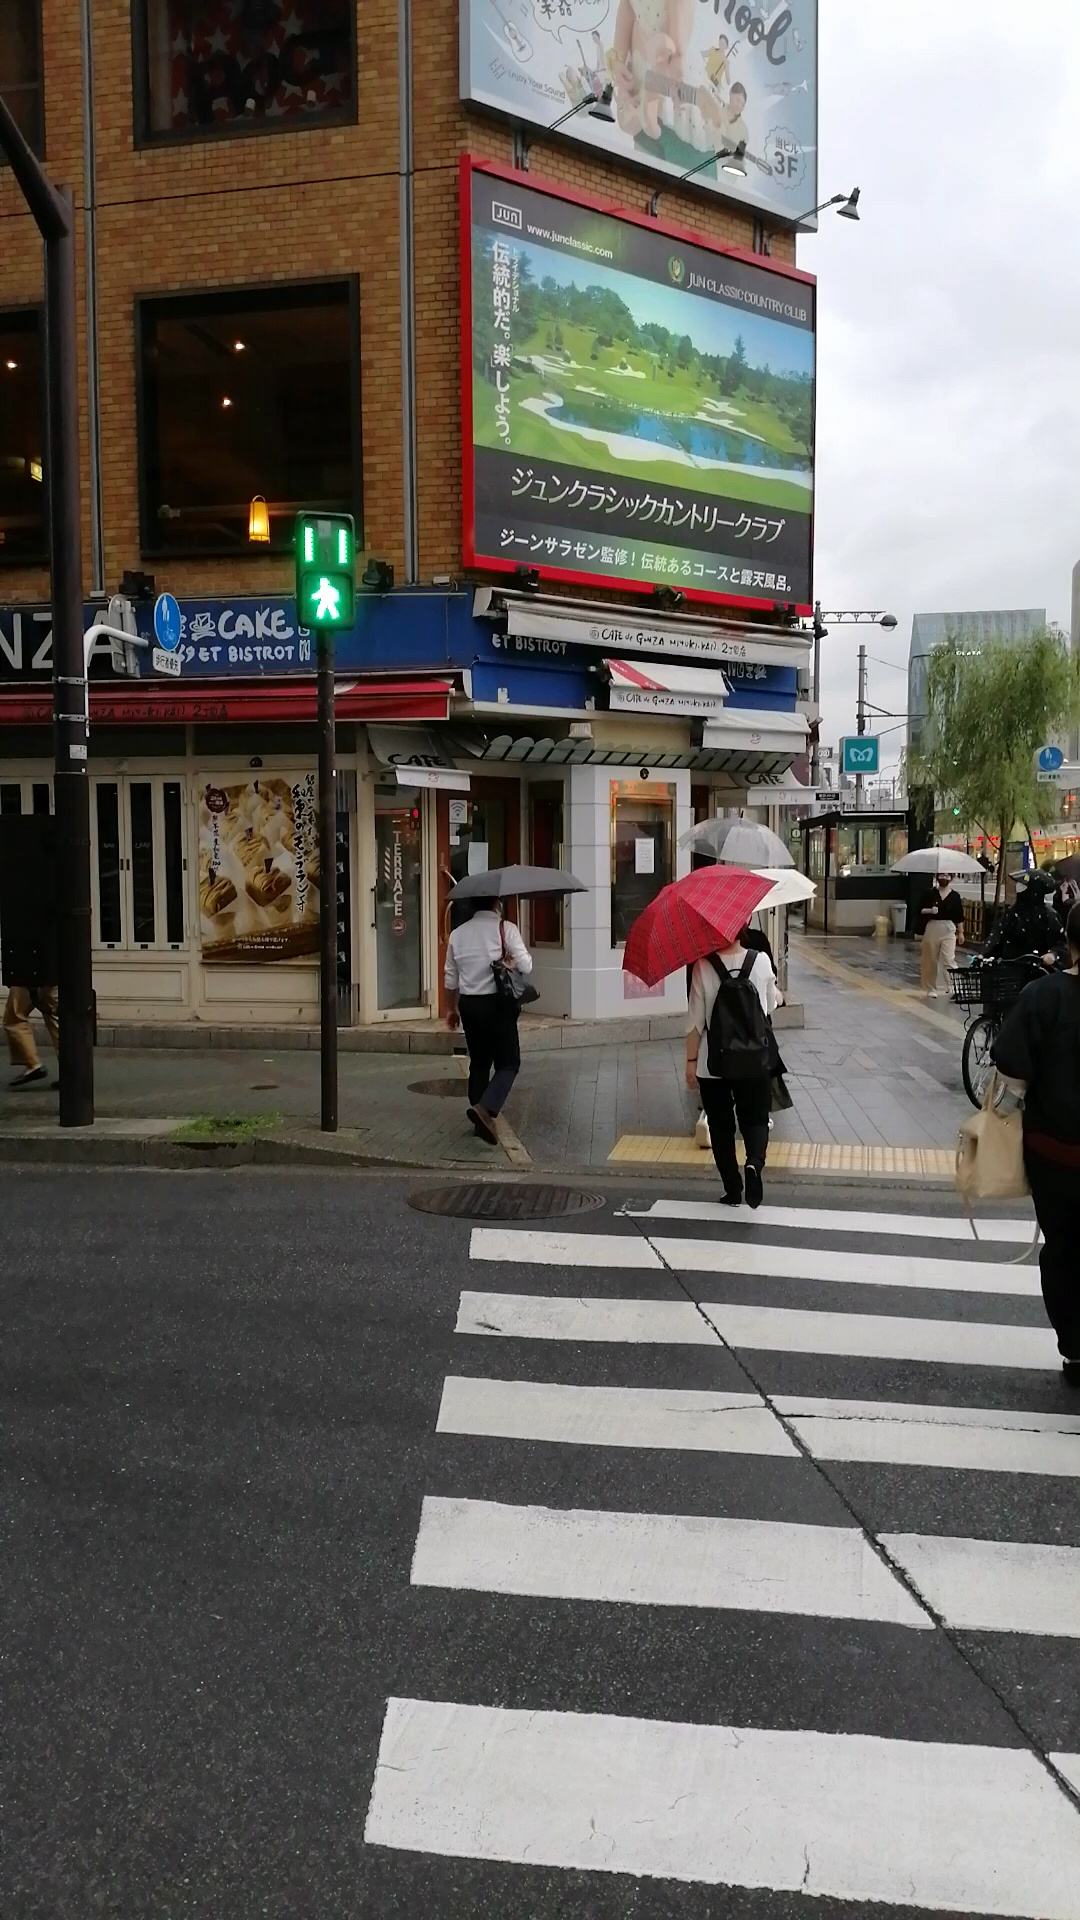green: (295, 502, 355, 632)
